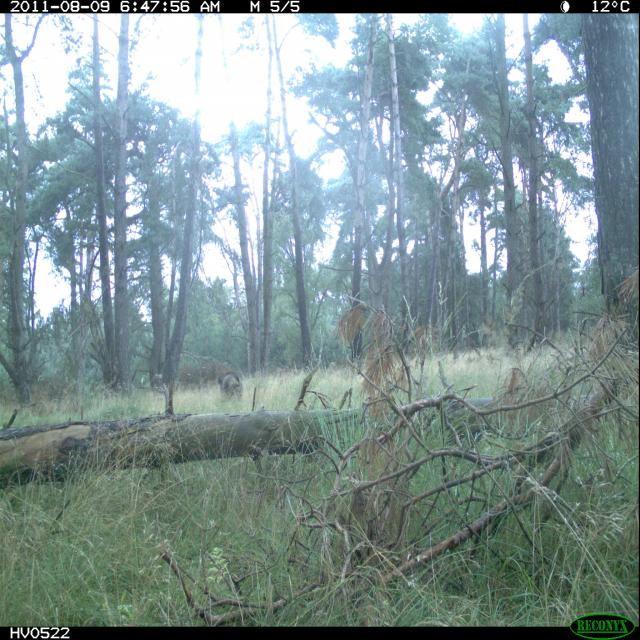boar: (209, 364, 251, 414)
